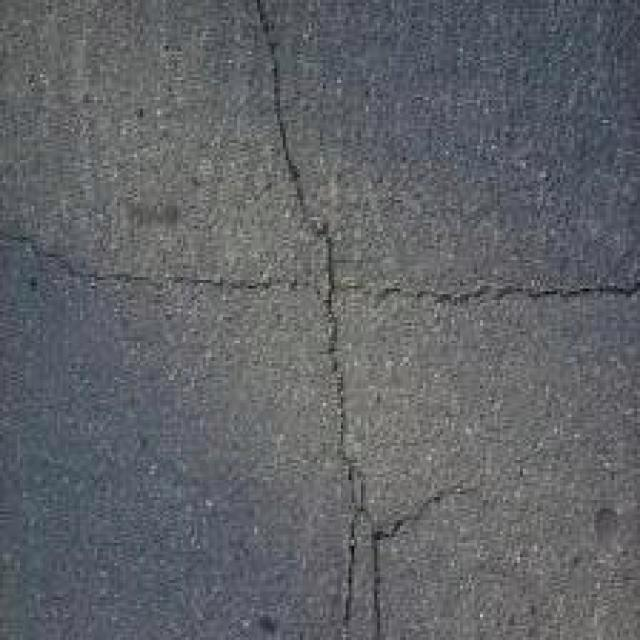crack: (218, 0, 450, 640), (0, 196, 640, 348)
